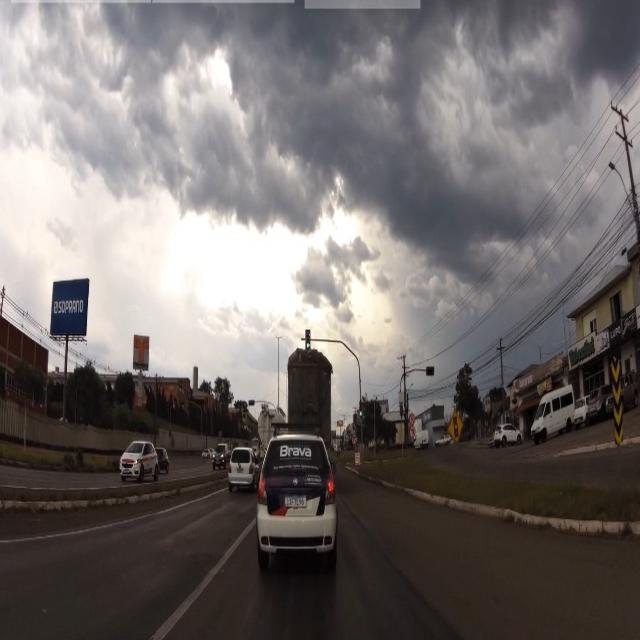A-14: (449, 412, 463, 446)
